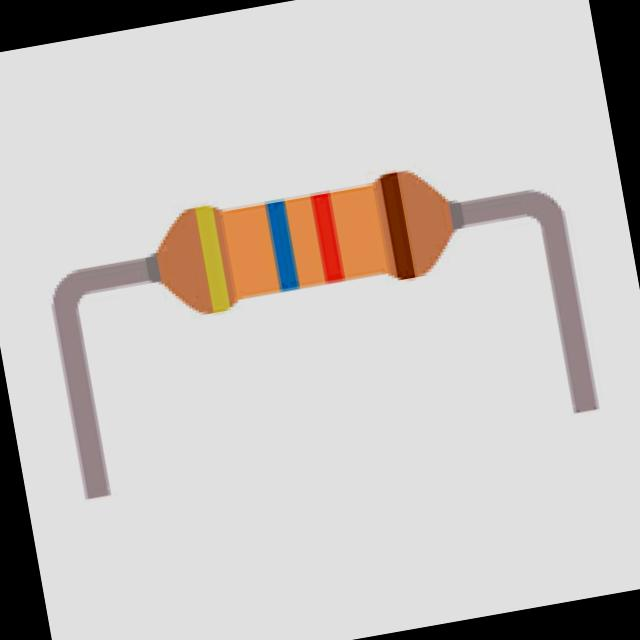Resistor: (157, 170, 453, 311)
blue: (265, 202, 298, 292)
brown: (380, 173, 413, 280)
gold: (195, 206, 229, 313)
red: (310, 194, 343, 281)
